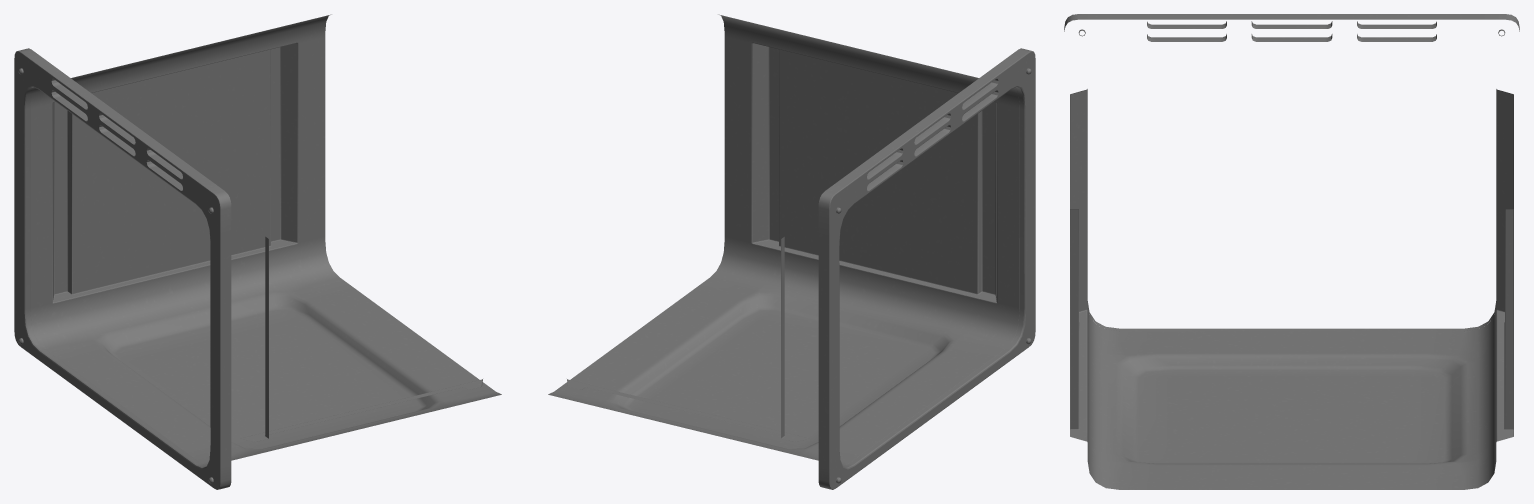
Rendered from baking_22.glb.
3 views of the same model, side by side, from view 1: azimuth 30°, elevation 25°; view 2: azimuth 150°, elevation 25°; view 3: azimuth 270°, elevation 25° (orthographic). The views are drawn at different scales.
Visible parts, largest first — view 1: StaticMeshActor_54_003; view 2: StaticMeshActor_54_003; view 3: StaticMeshActor_54_003.
Boxes of the visible parts, bbox=[...] form: StaticMeshActor_54_003: bbox=[14, 14, 501, 489]; StaticMeshActor_54_003: bbox=[548, 14, 1035, 489]; StaticMeshActor_54_003: bbox=[1064, 14, 1519, 489].
Size of the model in its own units: 0.4714 by 0.4373 by 0.5542.
1 material, 1 textured.
